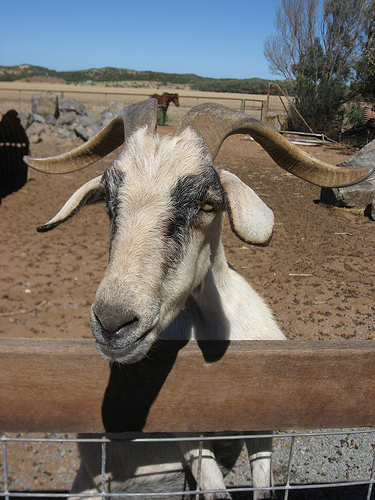goat: (24, 97, 375, 498)
